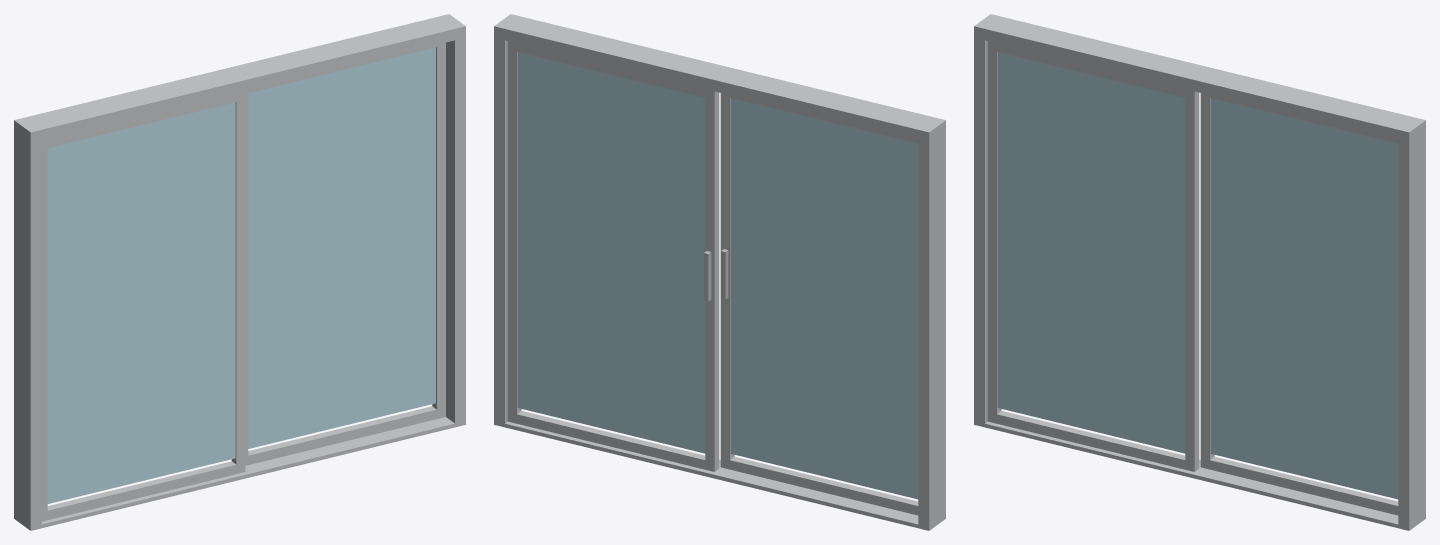
File: opening.door.sliding_2400.glb
3 views of the same model, side by side, from view 1: azimuth 30°, elevation 25°; view 2: azimuth 150°, elevation 25°; view 3: azimuth 330°, elevation 25° (orthographic).
Visible parts, largest first — view 1: glazing__glass, frame__aluminium, leaf__aluminium; view 2: glazing__glass, frame__aluminium, leaf__aluminium, ironmongery__steel_stainless; view 3: glazing__glass, frame__aluminium, leaf__aluminium.
Boxes of the visible parts, left/top/right/bottom form: glazing__glass: left=47, top=47, right=435, bottom=503; frame__aluminium: left=14, top=14, right=465, bottom=530; leaf__aluminium: left=41, top=42, right=445, bottom=521; glazing__glass: left=517, top=52, right=918, bottom=499; frame__aluminium: left=494, top=14, right=945, bottom=530; leaf__aluminium: left=507, top=41, right=918, bottom=515; ironmongery__steel_stainless: left=704, top=249, right=728, bottom=301; glazing__glass: left=997, top=52, right=1398, bottom=499; frame__aluminium: left=974, top=14, right=1425, bottom=530; leaf__aluminium: left=987, top=41, right=1398, bottom=515.
Size of the model in its own units: 2.4 by 2.1 by 0.16.
